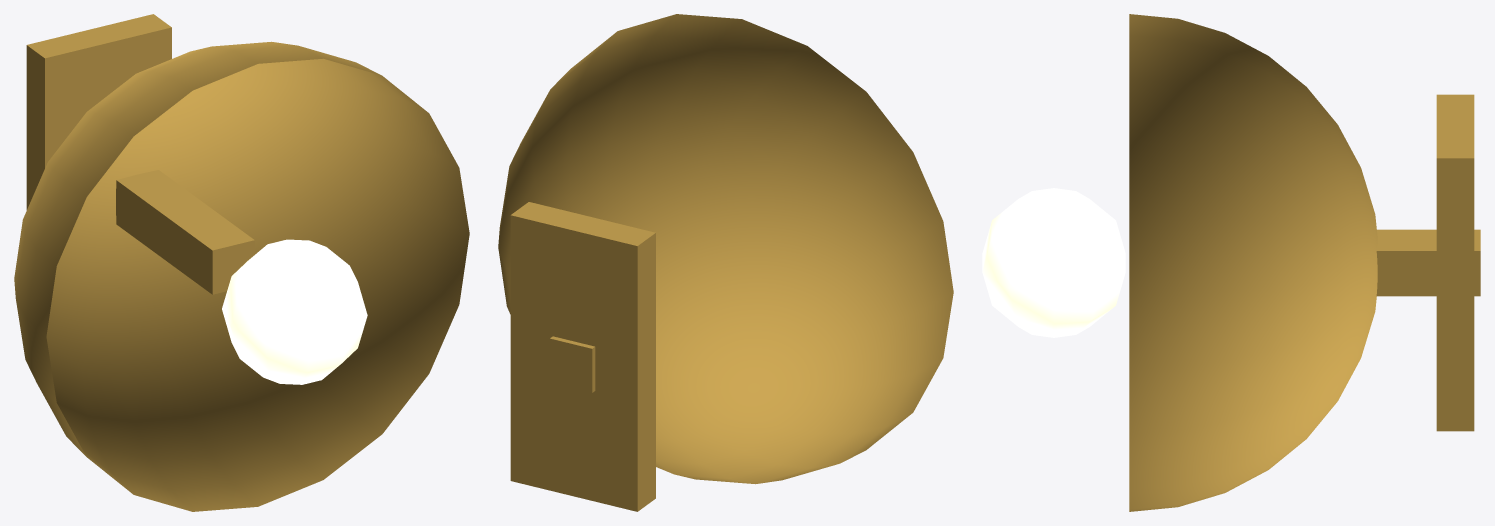
File: brass_sconce.glb
3 renders of one model, left to right at view 1: azimuth 30°, elevation 25°; view 2: azimuth 150°, elevation 25°; view 3: azimuth 270°, elevation 25°, orthographic. The views are drawn at different scales.
Parts seen in each view (by area): view 1: brass_sconce; view 2: brass_sconce; view 3: brass_sconce.
Boxes of the visible parts, <box> form: brass_sconce: <box>14,14,469,511</box>; brass_sconce: <box>498,14,953,511</box>; brass_sconce: <box>982,14,1480,511</box>.
Bounding box in the file's own units: 0.2 × 0.2 × 0.1985.
